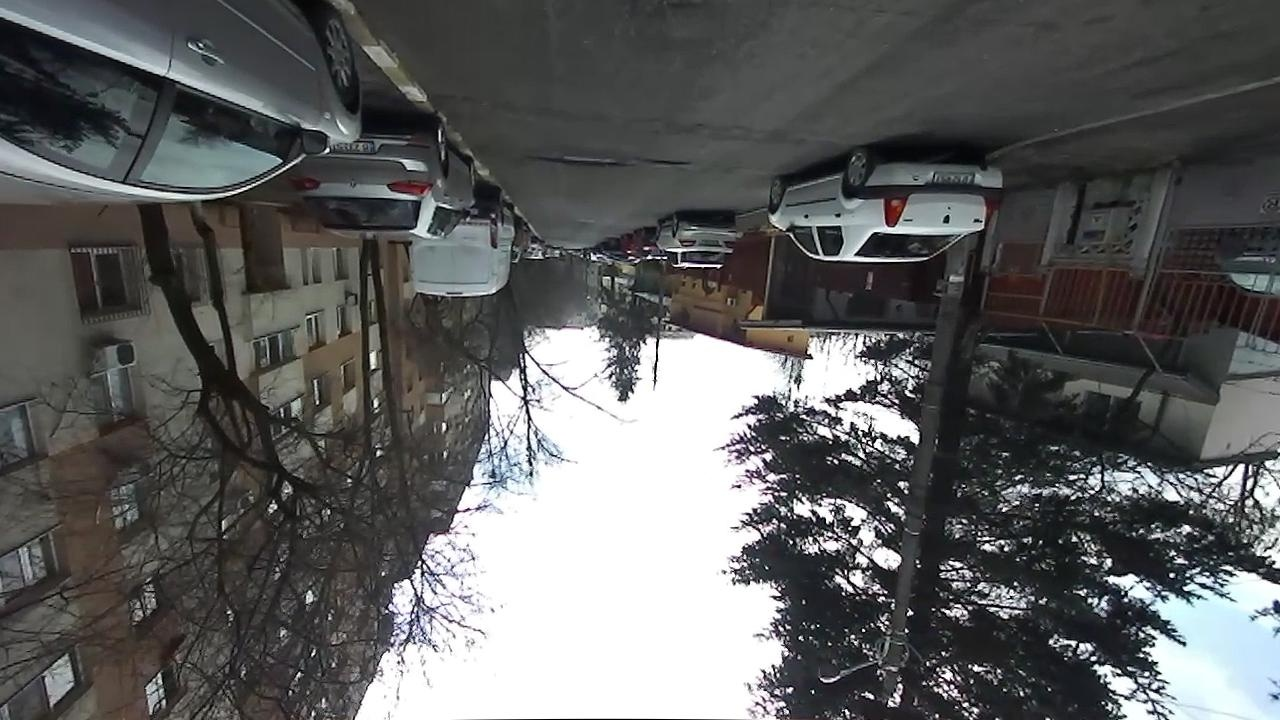pothole: (533, 153, 619, 167), (642, 158, 690, 166)
